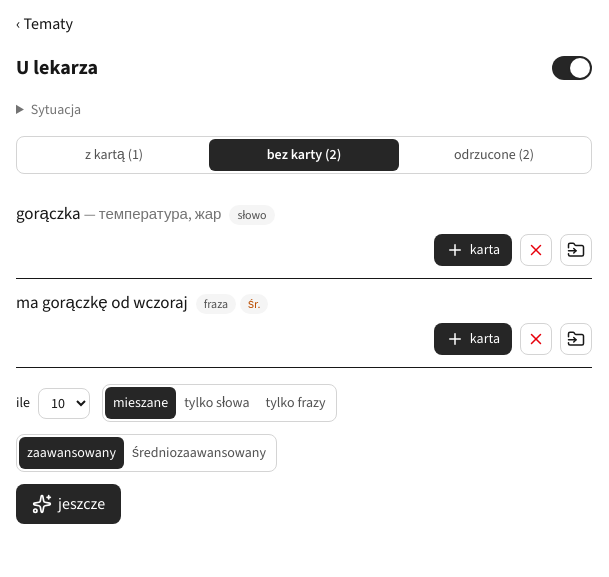
Scenario: TopicPage › shows a save error when an action fails, leaving the list as it was
Check: the text "gorączka" is shown, box [16,202,81,225]
Click the button named "odrzuć" below "słowo".
click(536, 250)  # box [520,234,552,266]
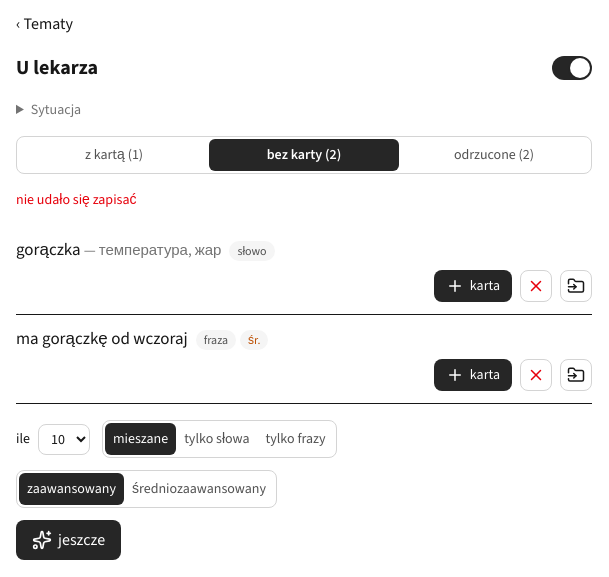
Check: the text "gorączka" is shown, box [16,238,81,261]
Check: the text "nie udało się zapisać" is shown, box [16,190,136,209]
